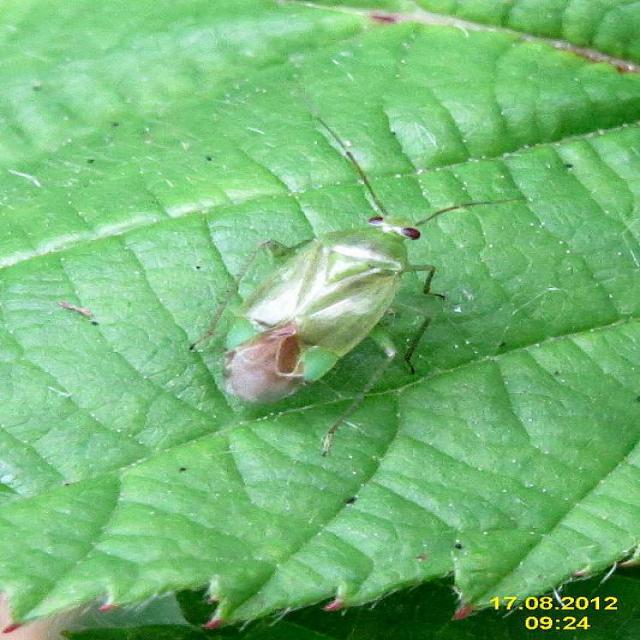Miridae-Adult-: (162, 93, 529, 452)
